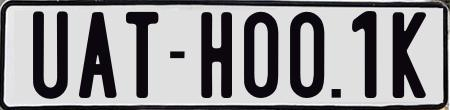0: (242, 11, 282, 101), (290, 12, 328, 100)
1: (349, 10, 379, 101)
A: (77, 9, 118, 98)
H: (199, 9, 235, 100)
K: (391, 11, 425, 102)
T: (126, 11, 161, 100)
U: (33, 9, 70, 99)
